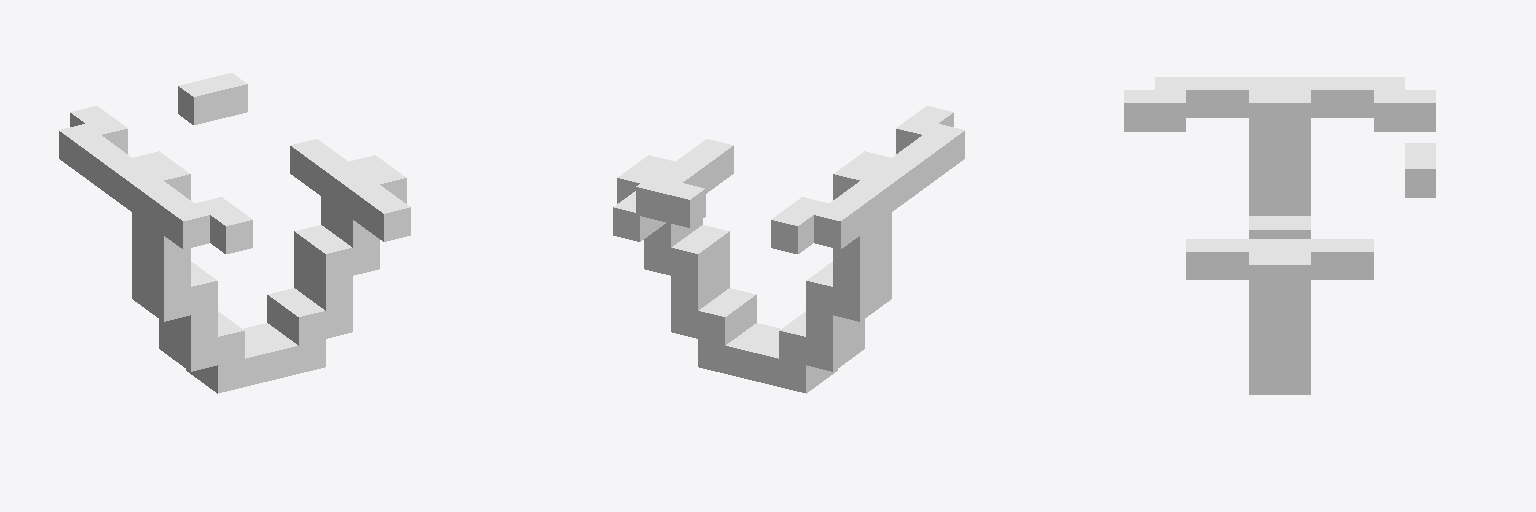
Rendered from example_model_3.obj.
3 views of the same model, side by side, from view 1: azimuth 30°, elevation 25°; view 2: azimuth 150°, elevation 25°; view 3: azimuth 270°, elevation 25° (orthographic).
Visible parts, largest first — view 1: object 1; view 2: object 1; view 3: object 1.
Boxes of the visible parts, box(x1,y1,x2,y2) form: object 1: box(59, 73, 410, 393); object 1: box(613, 106, 964, 393); object 1: box(1124, 77, 1435, 394).
Bounding box in the file's own units: 1 × 0.8 × 1.